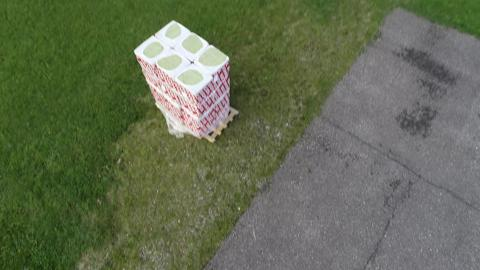RockwoolPallet: (133, 19, 232, 140)
